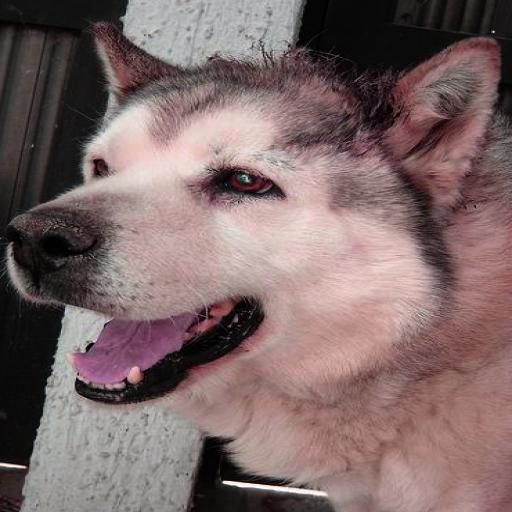dog_face: (0, 18, 506, 399)
